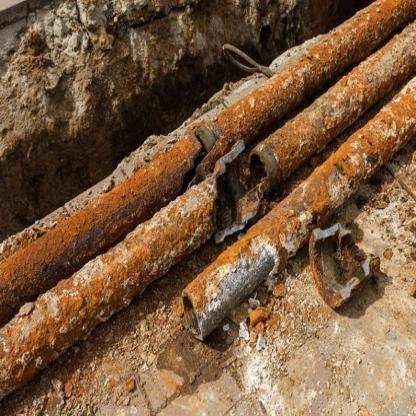burst: (199, 153, 272, 231)
